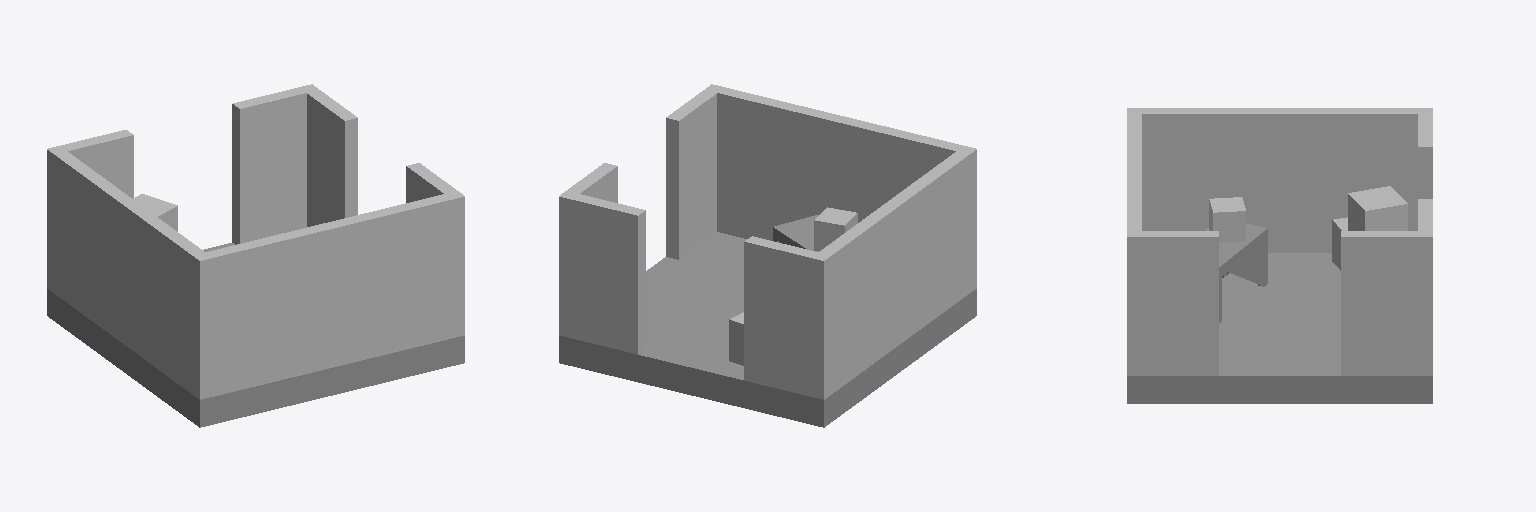
File: big-corner-room_3.obj
The picture shows the model from 3 angles: view 1: azimuth 30°, elevation 25°; view 2: azimuth 150°, elevation 25°; view 3: azimuth 270°, elevation 25°; orthographic projection.
Visible parts, largest first — view 1: Cube.005, Cube, Cube.001_Cube.005; view 2: Cube.005, Cube, Cube.002_Cube.006, Cube.007, Cube.003_Cube.007; view 3: Cube.005, Cube, Cube.001_Cube.005, Cube.007, Cube.002_Cube.006.
Boxes of the visible parts, box(x1,y1,x2,y2) form: Cube.005: box(47, 84, 464, 399); Cube: box(47, 243, 464, 427); Cube.001_Cube.005: box(133, 194, 177, 231); Cube.005: box(559, 84, 976, 399); Cube: box(559, 232, 976, 427); Cube.002_Cube.006: box(814, 207, 857, 250); Cube.007: box(773, 215, 819, 251); Cube.003_Cube.007: box(729, 312, 743, 365); Cube.005: box(1127, 108, 1432, 375); Cube: box(1127, 253, 1432, 403); Cube.001_Cube.005: box(1348, 186, 1407, 230); Cube.007: box(1205, 223, 1267, 322); Cube.002_Cube.006: box(1209, 197, 1245, 242).
Bounding box in the file's own units: 10 × 6 × 10.